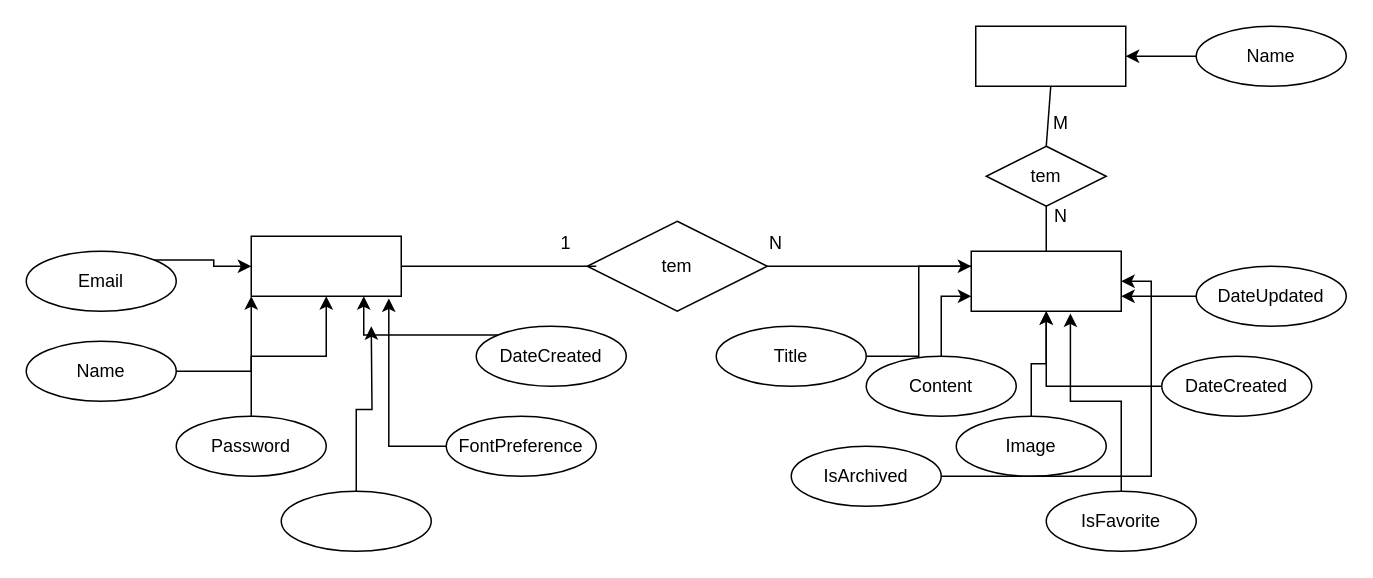
Image size: 1373x578. Some labels were removed from this diagram. The centre of each missing label's shape, as x and y in pixels:
"NOTE" belongs at (x=1045, y=280).
"TAG" belongs at (x=1050, y=55).
"ThemePreference" belongs at (x=355, y=520).
"USER" belongs at (x=325, y=265).
